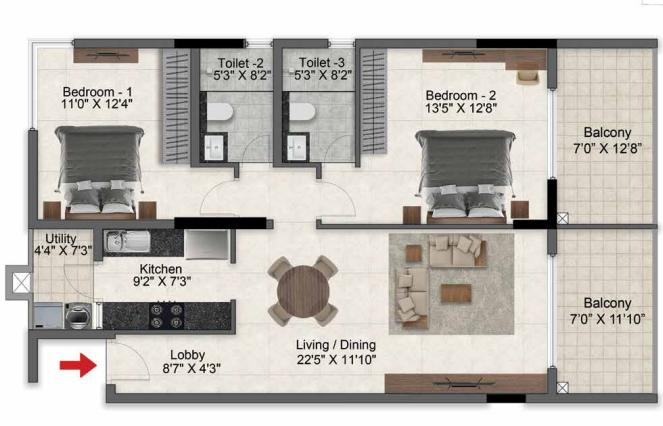Balcony: (550, 42, 658, 227), (556, 227, 657, 395)
Bed: (415, 130, 514, 222), (55, 127, 143, 217)
Bedroom: (359, 42, 553, 224), (32, 42, 197, 223)
Dining Room: (236, 228, 389, 395)
Dining table: (263, 253, 343, 330)
Kitchen: (99, 226, 236, 334)
Living Room: (388, 230, 551, 399)
Sofa: (395, 266, 428, 330), (425, 233, 487, 267)
Wardrobe: (357, 44, 387, 151), (162, 46, 190, 160)
commode: (287, 104, 316, 122), (207, 102, 231, 121)
door: (106, 340, 150, 380), (316, 182, 358, 218), (201, 180, 236, 214), (65, 265, 98, 301)
fridge: (183, 229, 230, 261)
kitchen-slab: (101, 299, 235, 334), (100, 226, 184, 257)
lobby: (107, 337, 238, 400)
sink: (103, 231, 152, 256), (202, 135, 226, 160), (286, 135, 308, 162)
stove: (149, 303, 184, 333)
toilet: (277, 43, 358, 161), (198, 44, 274, 167)
tv: (388, 368, 550, 397), (423, 46, 551, 69), (75, 45, 135, 64)
utility: (30, 227, 98, 333)
washing-machine: (67, 302, 92, 330)
